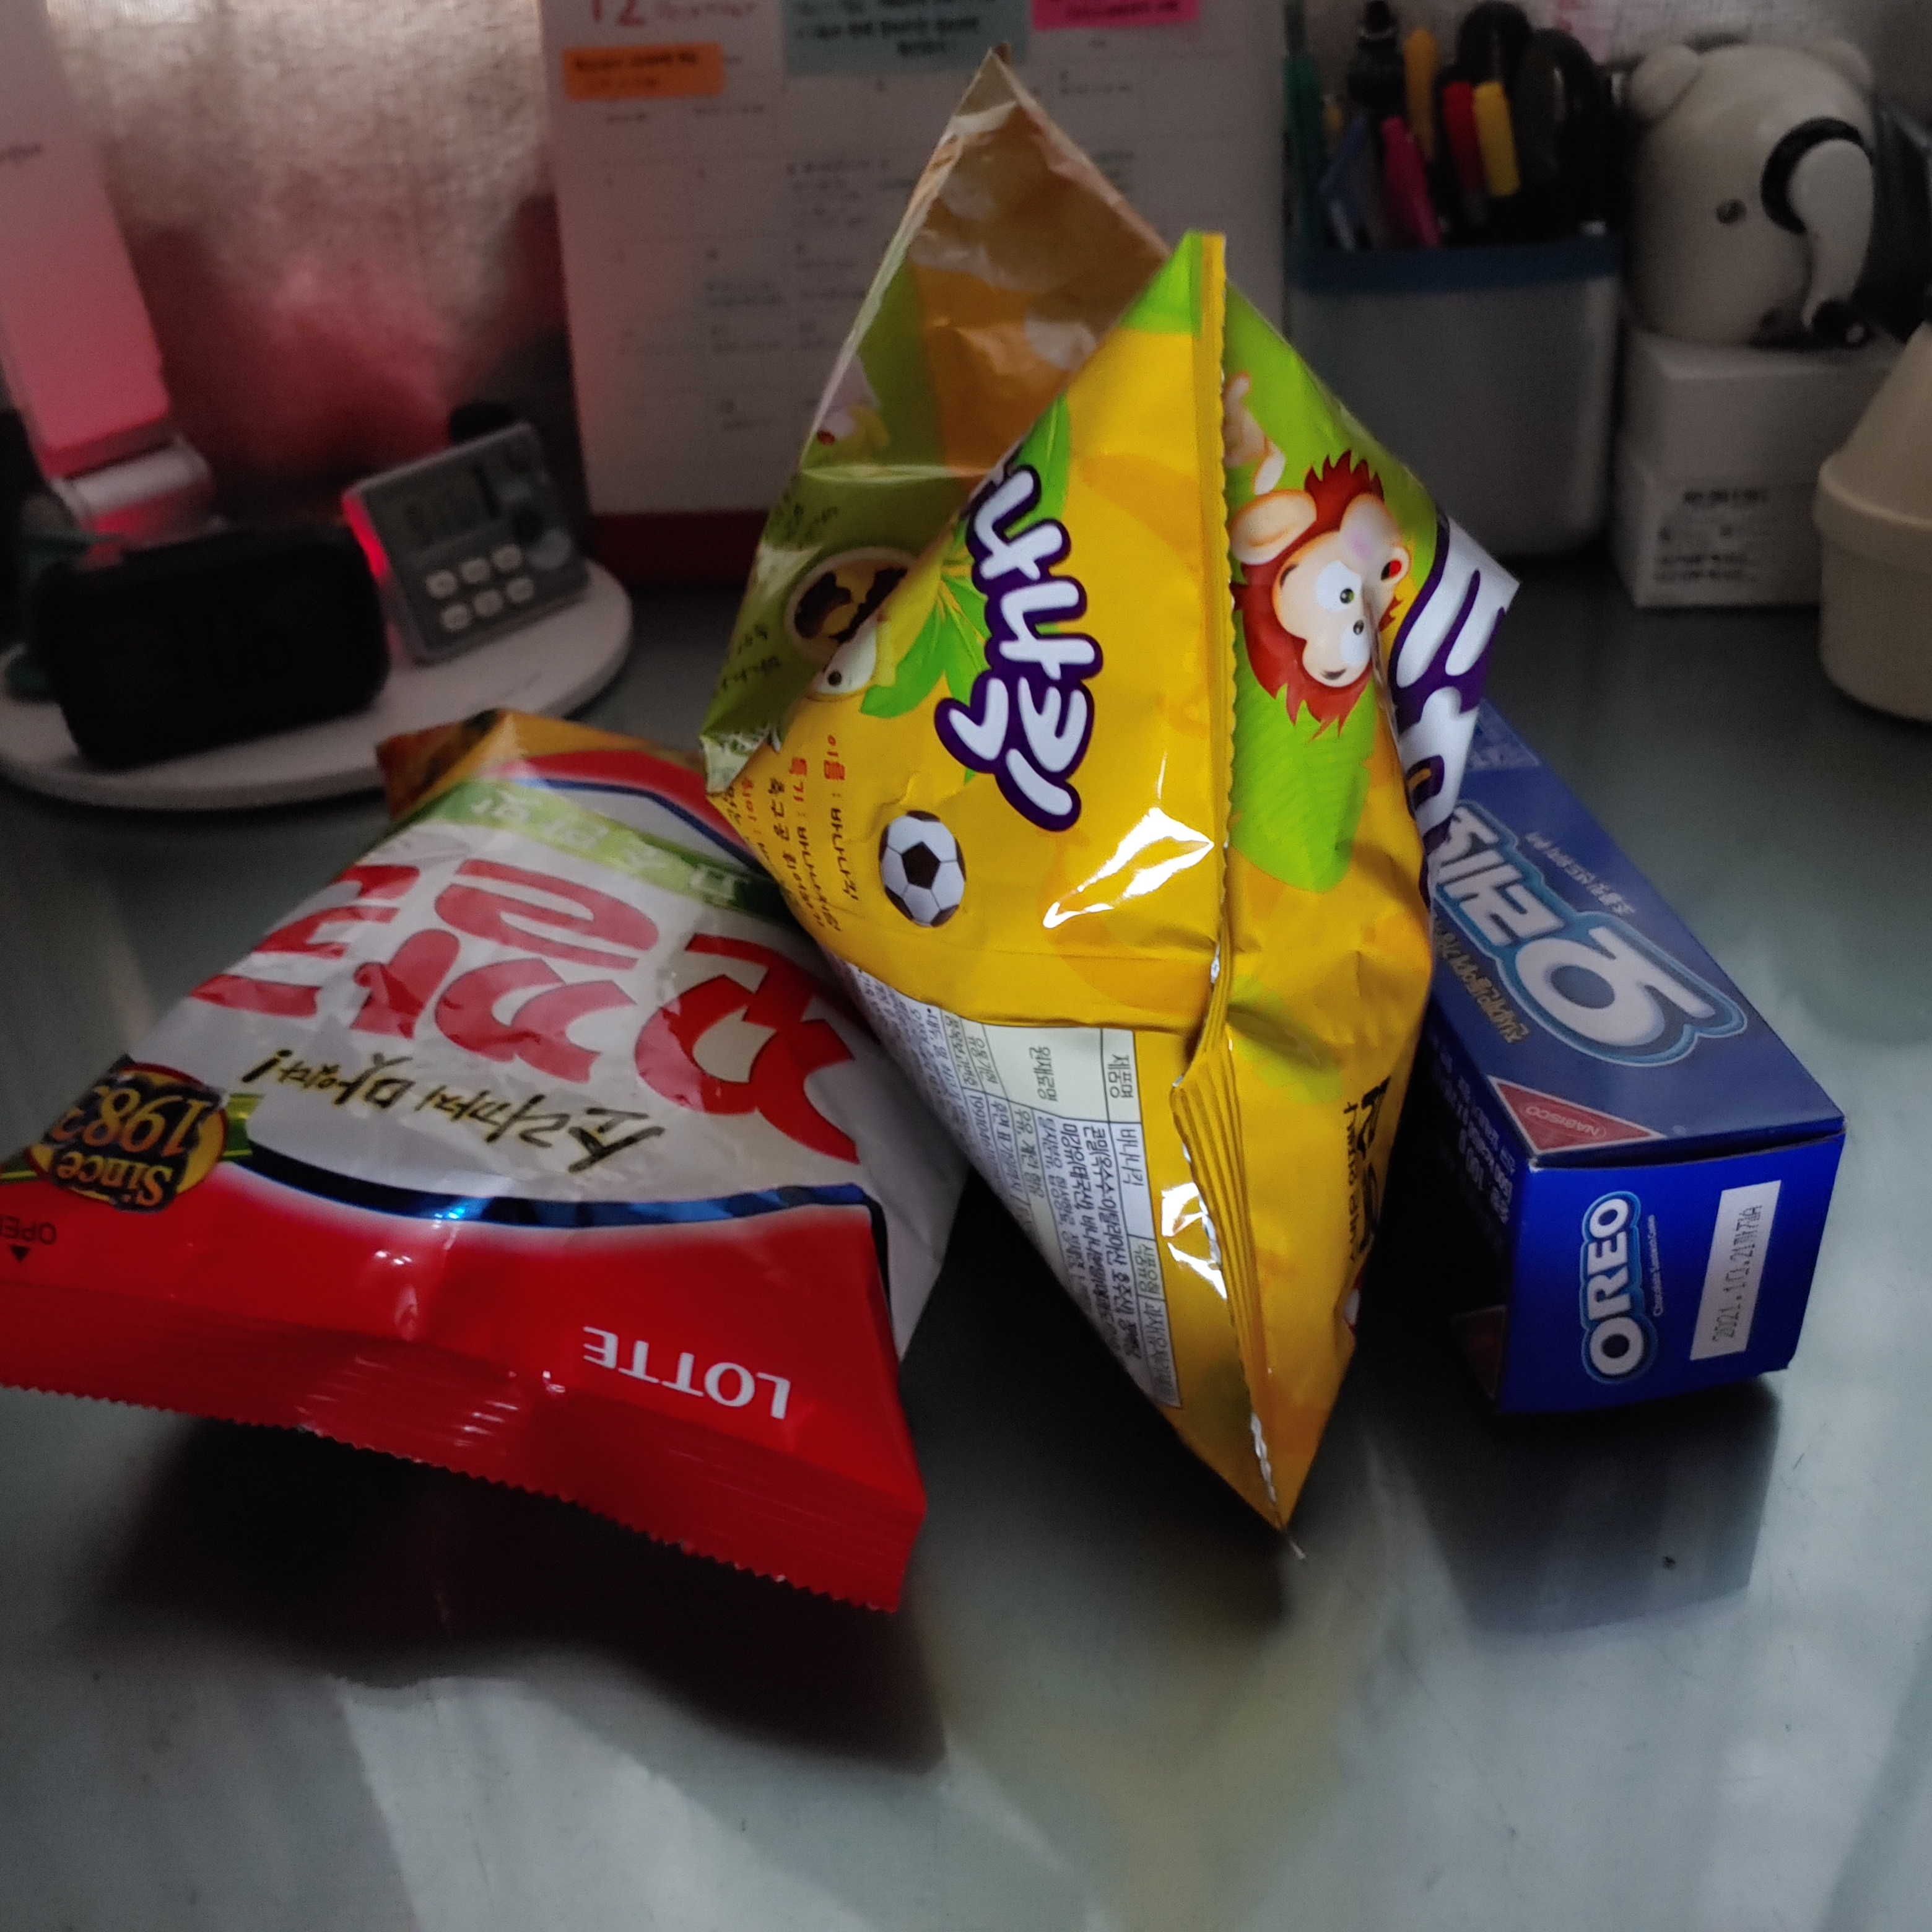banana: (679, 41, 1564, 1552)
ggoggalcon: (14, 676, 1024, 1686)
oreo: (1376, 676, 1886, 1424)
